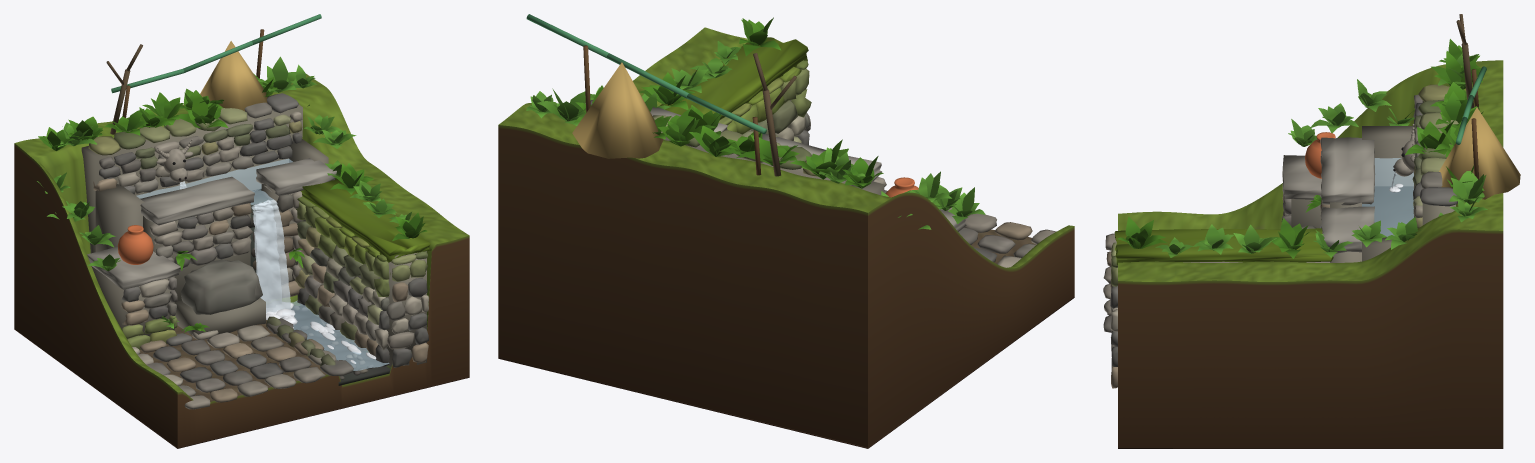
File: dhara.glb
The picture shows the model from 3 angles, left to right: view 1: azimuth 30°, elevation 25°; view 2: azimuth 150°, elevation 25°; view 3: azimuth 270°, elevation 25°; orthographic projection. The views are drawn at different scales.
Parts seen in each view (by area): view 1: Stonework, Earth, GrassMoss, Mortar, Foliage, FallingWater, Water, PipeAndBranches, Matka, Foam, BullSpout; view 2: Earth, GrassMoss, Foliage, Stonework, PipeAndBranches, Mortar; view 3: Earth, GrassMoss, Stonework, Foliage, Mortar, Water, PipeAndBranches, Matka, BullSpout.
Part boxes in pixels (x1=…): Stonework: x1=87, y1=93, x2=428, y2=409; Earth: x1=14, y1=143, x2=469, y2=448; GrassMoss: x1=15, y1=41, x2=468, y2=401; Mortar: x1=81, y1=104, x2=426, y2=385; Foliage: x1=37, y1=56, x2=427, y2=332; FallingWater: x1=179, y1=181, x2=290, y2=313; Water: x1=136, y1=158, x2=389, y2=370; PipeAndBranches: x1=106, y1=14, x2=321, y2=134; Matka: x1=117, y1=225, x2=153, y2=264; Foam: x1=266, y1=302, x2=376, y2=363; BullSpout: x1=156, y1=139, x2=193, y2=182; Earth: x1=498, y1=125, x2=1074, y2=448; GrassMoss: x1=498, y1=27, x2=1074, y2=268; Foliage: x1=526, y1=17, x2=985, y2=229; Stonework: x1=590, y1=60, x2=1056, y2=267; PipeAndBranches: x1=526, y1=14, x2=796, y2=176; Mortar: x1=663, y1=100, x2=884, y2=195; Earth: x1=1118, y1=229, x2=1503, y2=448; GrassMoss: x1=1114, y1=60, x2=1520, y2=281; Stonework: x1=1103, y1=84, x2=1458, y2=388; Foliage: x1=1117, y1=39, x2=1487, y2=258; Mortar: x1=1183, y1=101, x2=1455, y2=262; Water: x1=1362, y1=158, x2=1413, y2=236; PipeAndBranches: x1=1455, y1=14, x2=1486, y2=179; Matka: x1=1305, y1=132, x2=1335, y2=178; BullSpout: x1=1393, y1=124, x2=1414, y2=176.
Bounding box in the file's own units: 3.21 × 2.77 × 3.25.
